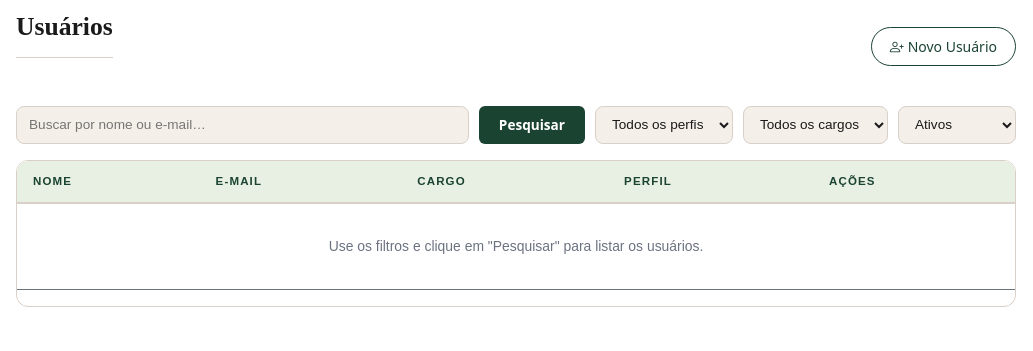
Scenario: UserList — filtros (rascunho → aplica) › digitar NÃO filtra ao vivo; só filtra depois de Pesquisar
Click the button with class "user-list-btn-filtrar" at (532, 125), box left=479, top=106, right=585, bottom=144
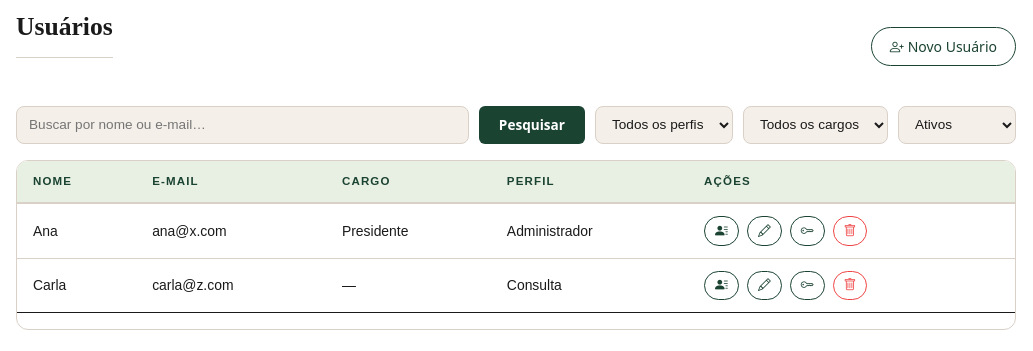
Expected: the text "ana@x.com" is shown, left=136, top=203, right=326, bottom=258
Type "carla" into the search field with class "user-list-filtro-busca" at (242, 125), box left=16, top=106, right=469, bottom=144
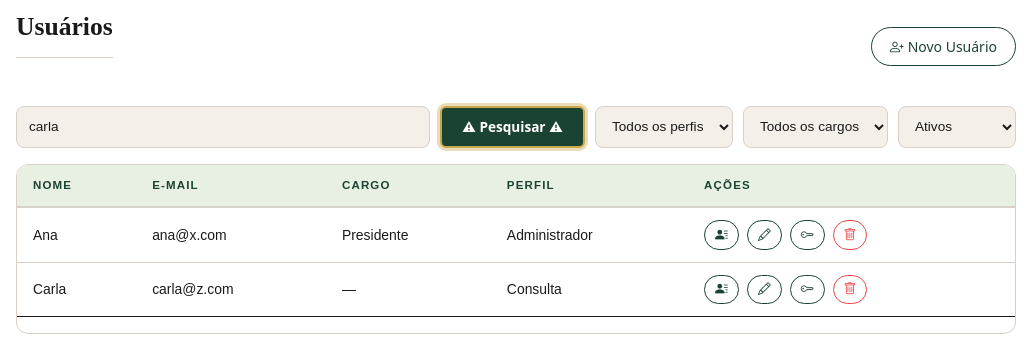
Expected: the text "ana@x.com" is shown, left=136, top=207, right=326, bottom=262
Click the button with class "user-list-btn-filtrar" at (512, 127), box left=440, top=106, right=585, bottom=148
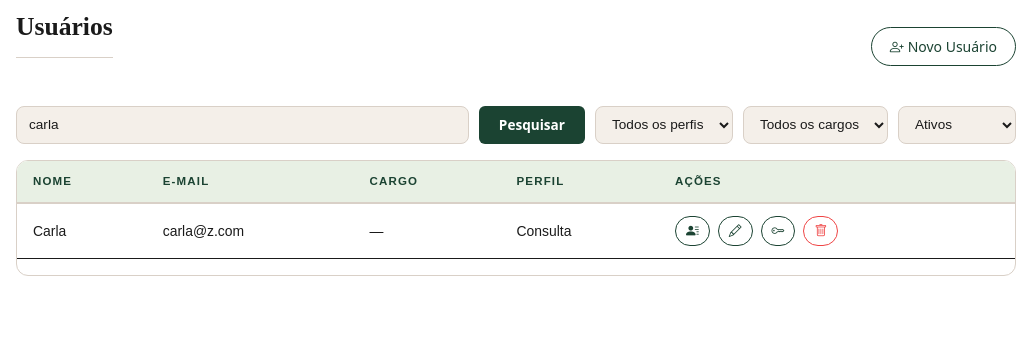
Expected: the text "carla@z.com" is shown, left=147, top=203, right=354, bottom=258
Expected: the text "ana@x.com" is gone
